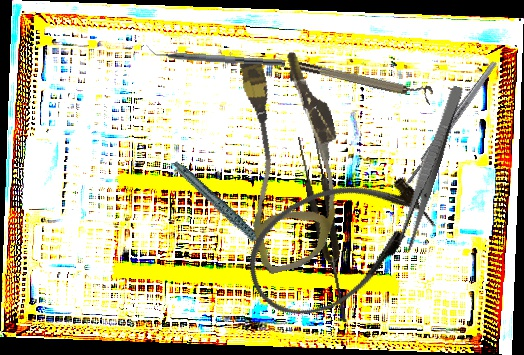Cannula: (228, 149, 448, 337), (213, 46, 366, 276)
Chopper: (145, 43, 286, 67)
Dressing Forceps: (395, 83, 465, 251)
Fixation Ring: (293, 53, 435, 105)
Handpiece: (172, 145, 273, 274)
Scalpel Handle: (403, 59, 500, 187)
Tissue Forceps: (296, 133, 355, 325)
